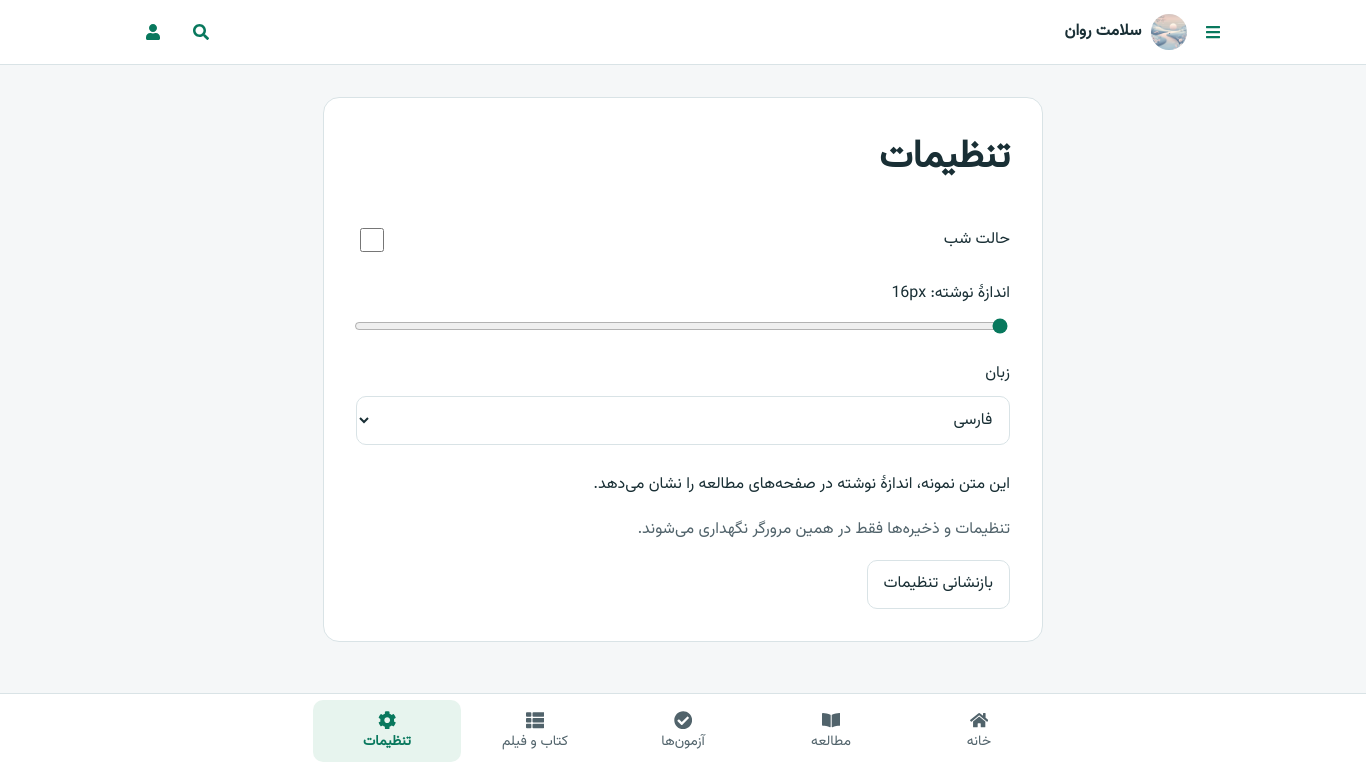
Test: routing and accessible content › translates the active home, profile and cart surfaces into German
Select "Deutsch" in the dropdown: (683, 420) [356,396,1010,445]
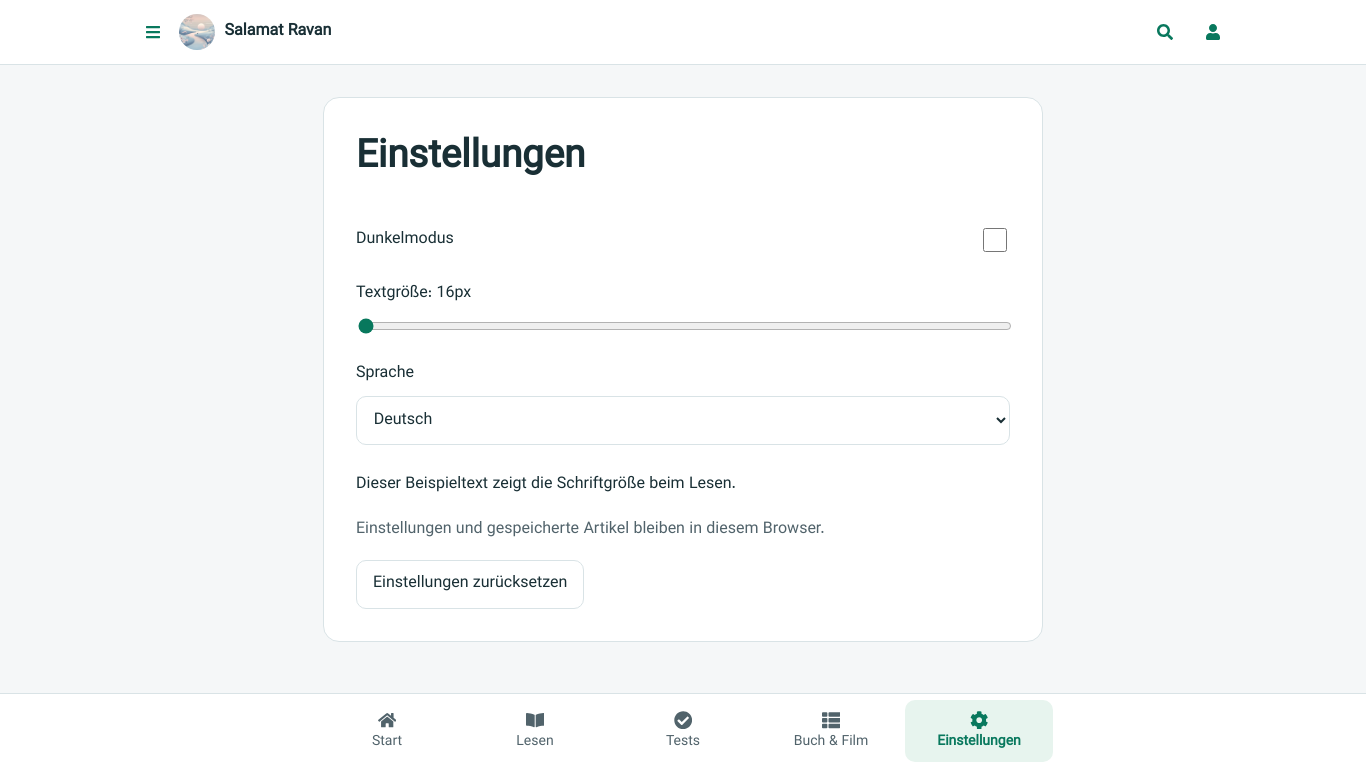
Click the link "Start": (387, 732) [372,711,402,753]
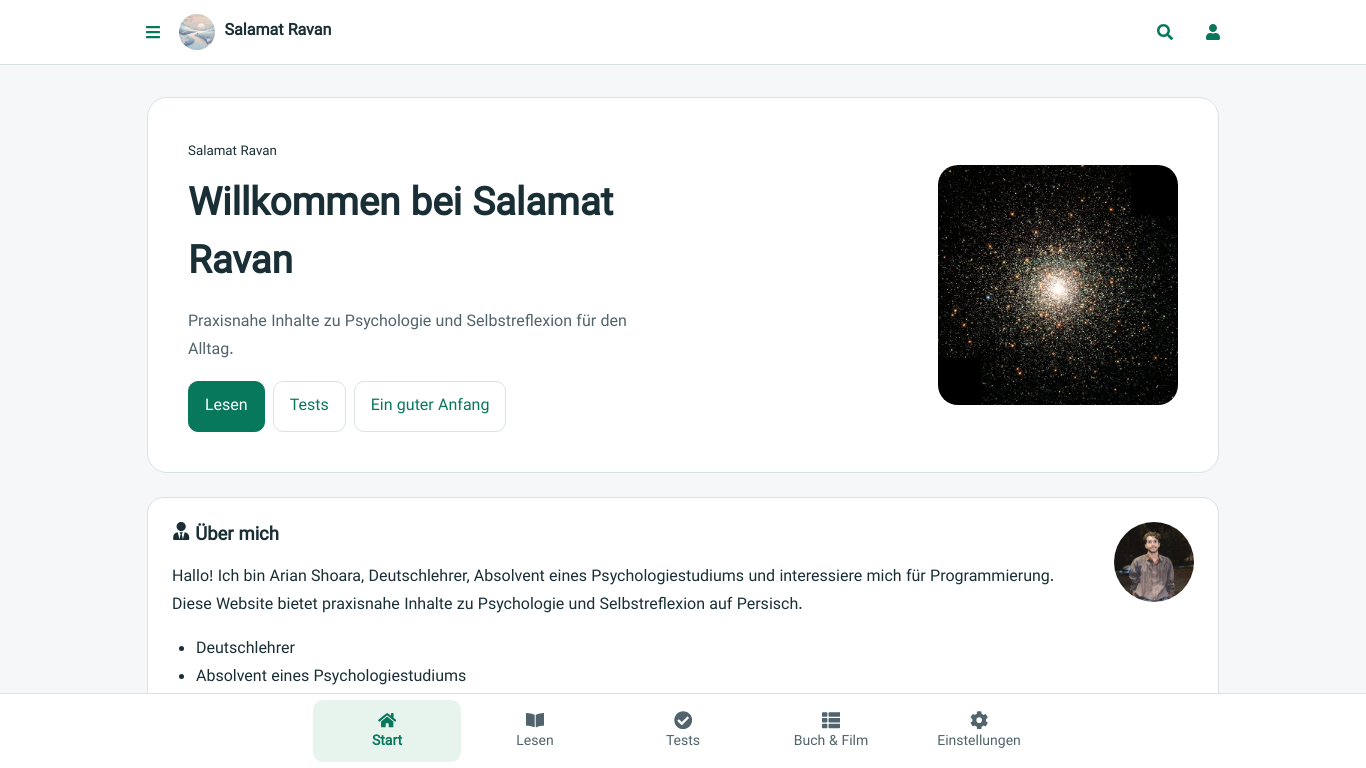
Result: the list item "Absolvent eines Psychologiestudiums" is shown at [196,665,466,690]
Click the button named "Menü": (153, 32) [131,10,175,54]
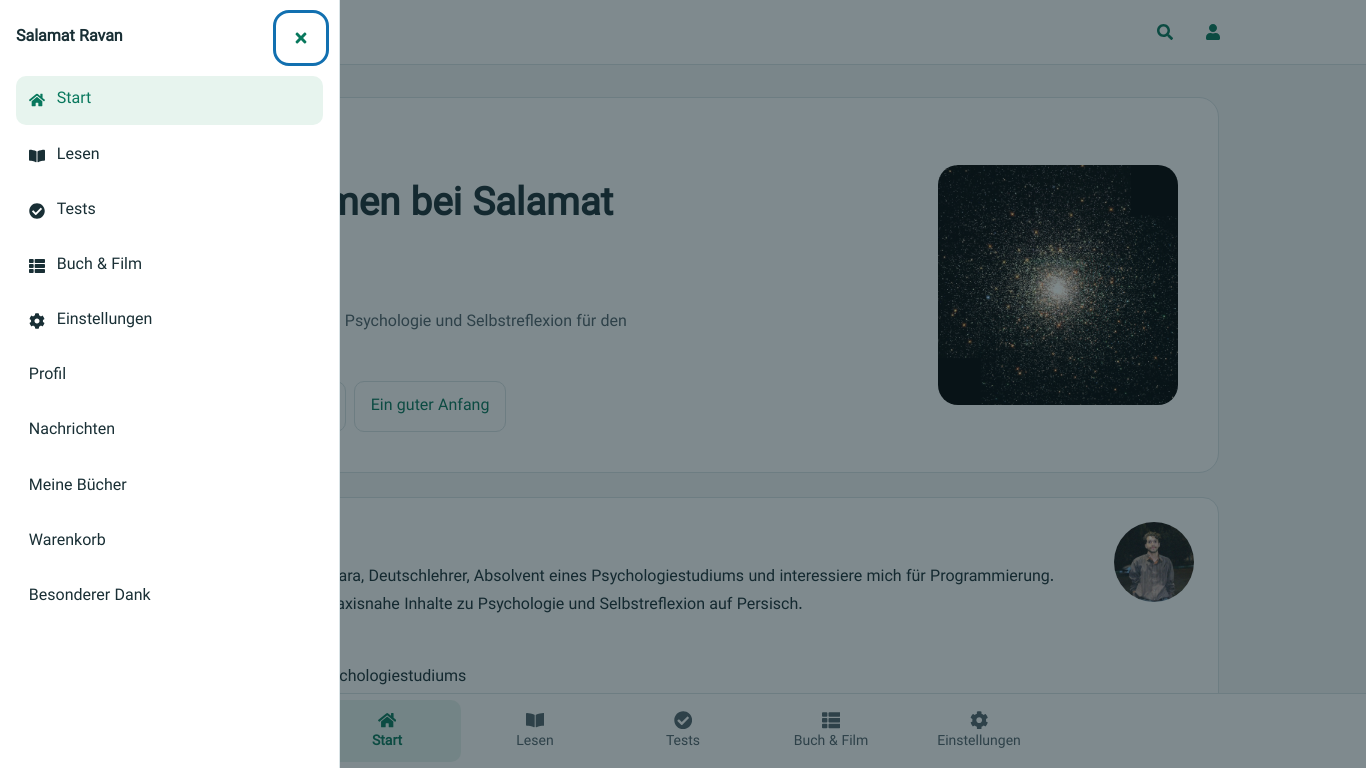
Click the link "Profil": (47, 376) [29,363,66,388]
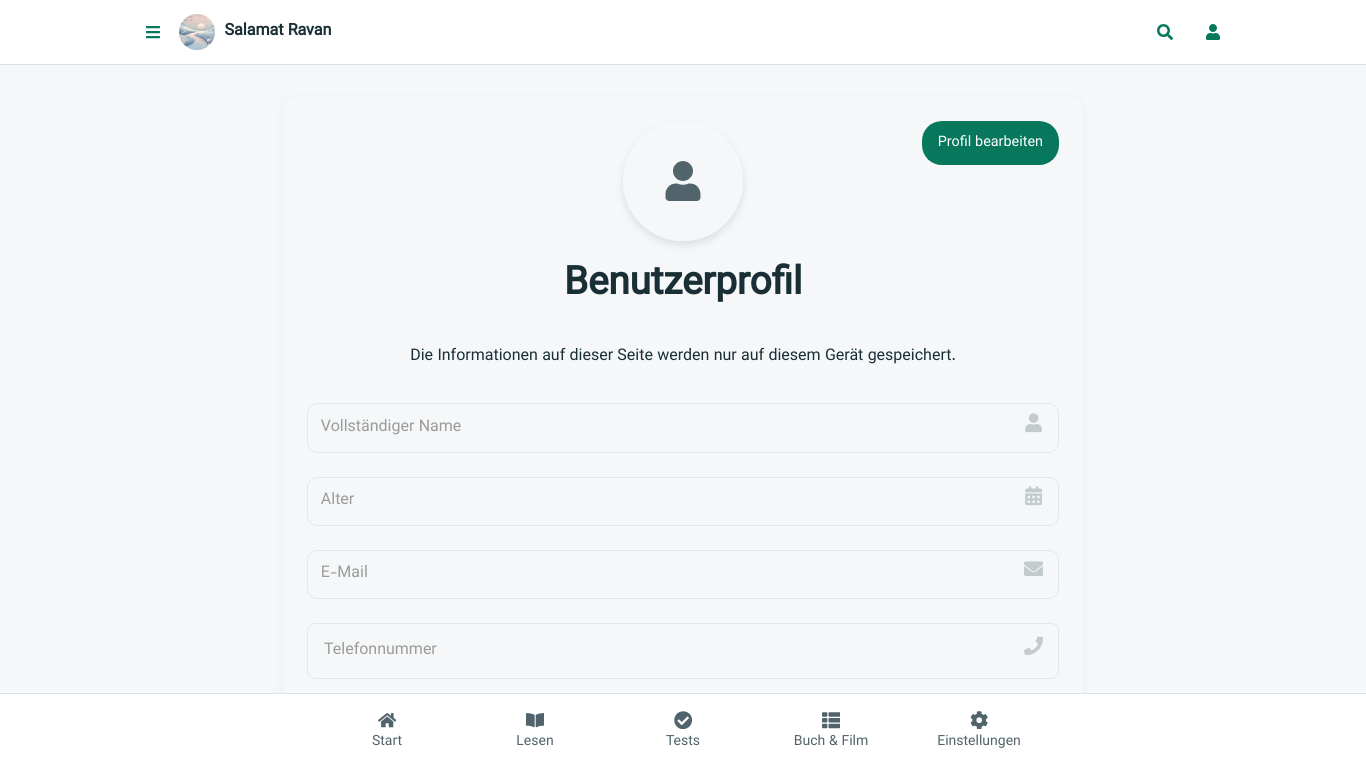
Result: the heading "Benutzerprofil" is shown at [564,255,802,315]
Click the button named "Menü": (153, 32) [131,10,175,54]
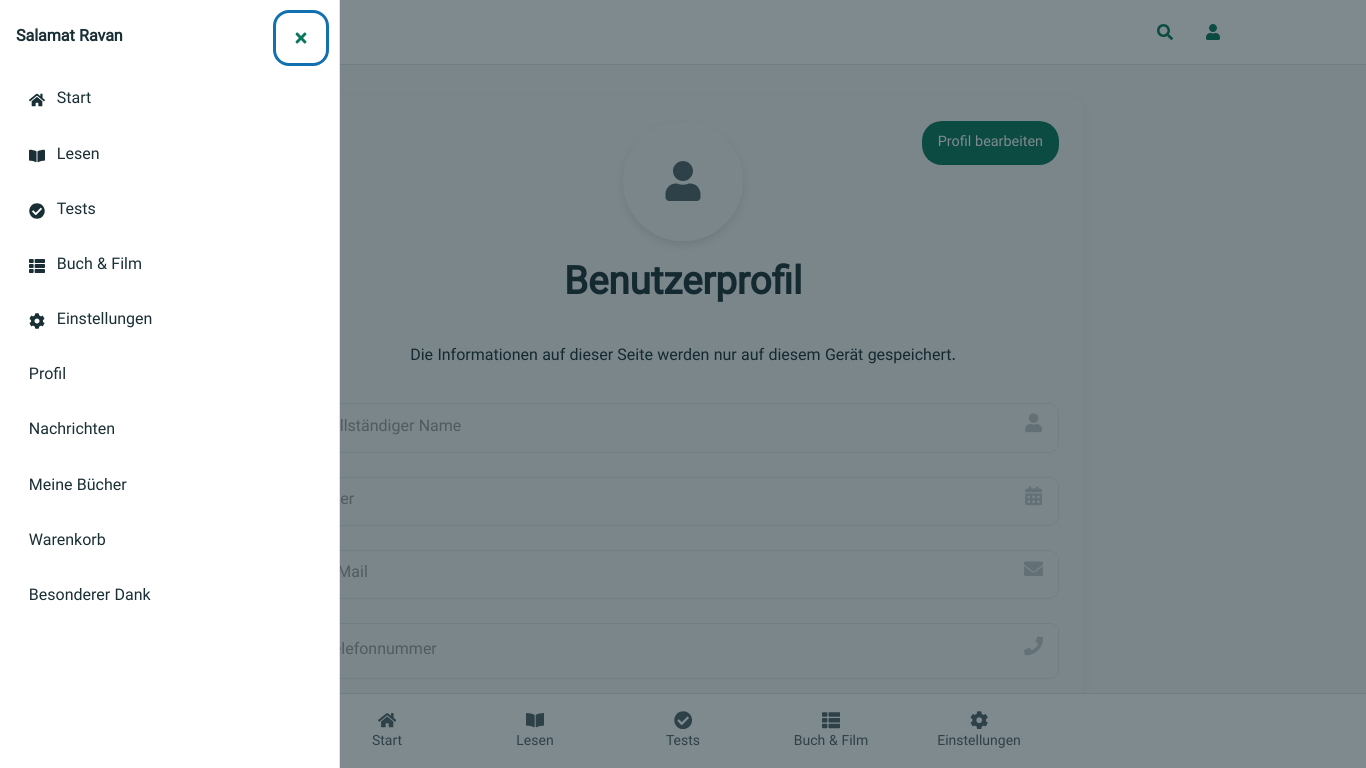
Click the link "Warenkorb": (67, 541) [29,529,106,554]
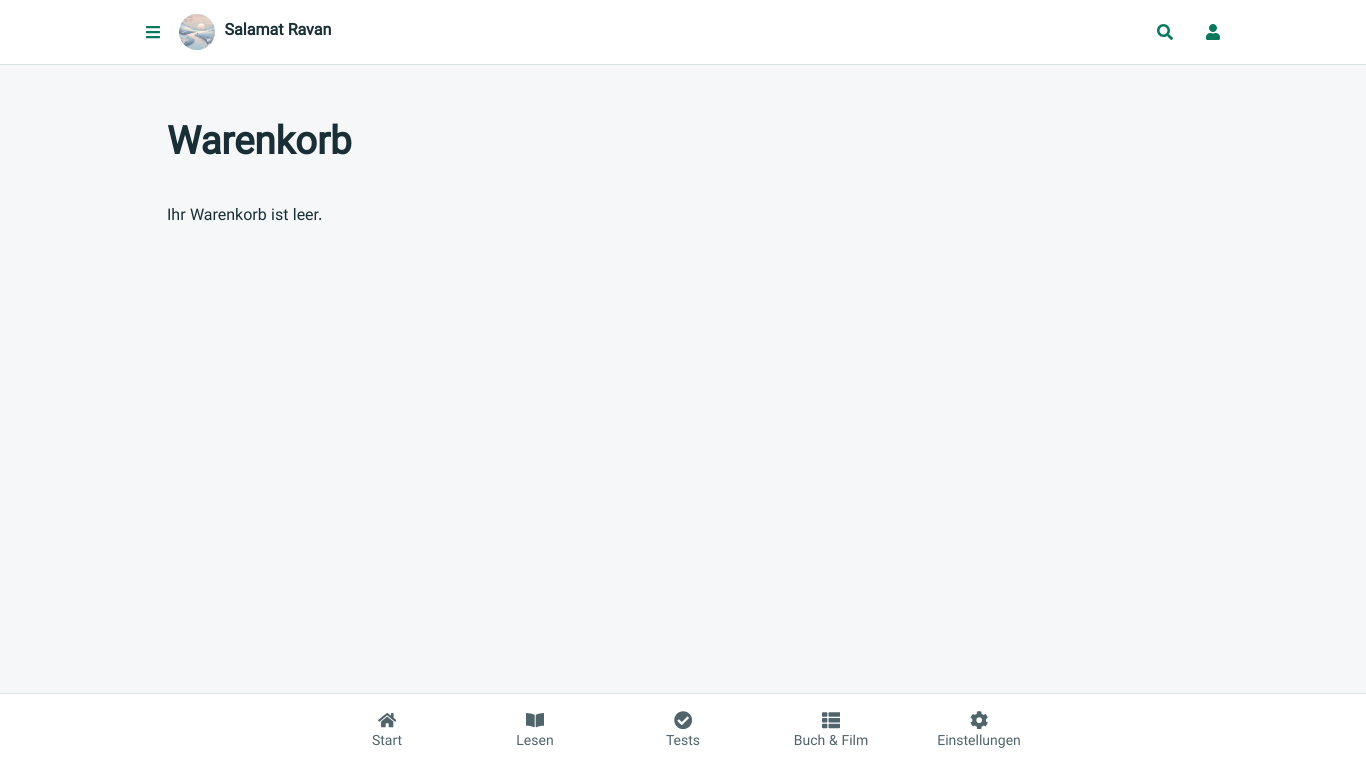
Result: the text "Ihr Warenkorb ist leer." is shown at [167,204,322,229]
